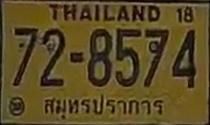2: (40, 28, 64, 86)
4: (172, 29, 196, 88)
5: (115, 28, 141, 86)
7: (13, 27, 38, 86), (144, 28, 168, 87)
8: (87, 28, 111, 86)
SPK: (42, 93, 165, 122)
